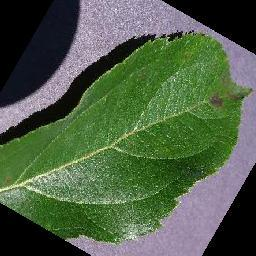apple healthy: (0, 28, 253, 250)
